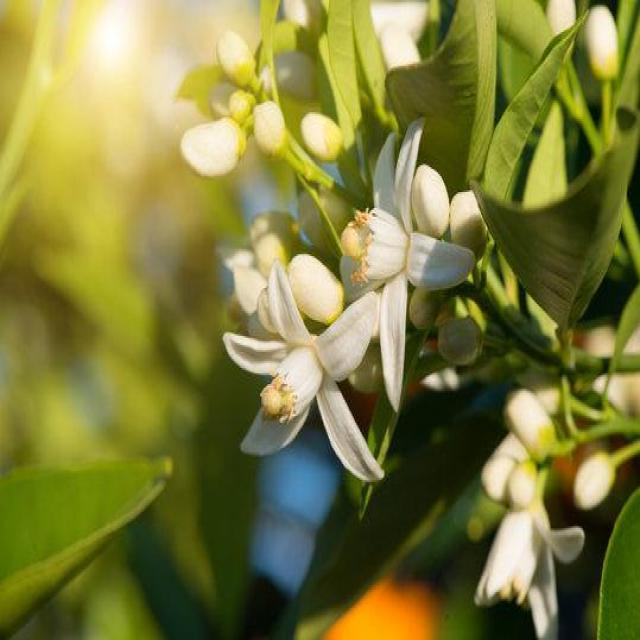Bunga: (342, 110, 476, 423), (224, 261, 382, 503), (483, 499, 585, 640), (180, 114, 243, 186), (288, 250, 344, 326), (502, 386, 554, 460), (212, 30, 259, 91), (410, 162, 448, 236), (571, 450, 619, 508), (585, 11, 620, 88), (450, 190, 487, 260), (436, 311, 484, 363), (300, 114, 344, 162), (252, 102, 288, 158), (481, 452, 518, 504), (407, 279, 443, 324), (506, 457, 534, 507)
